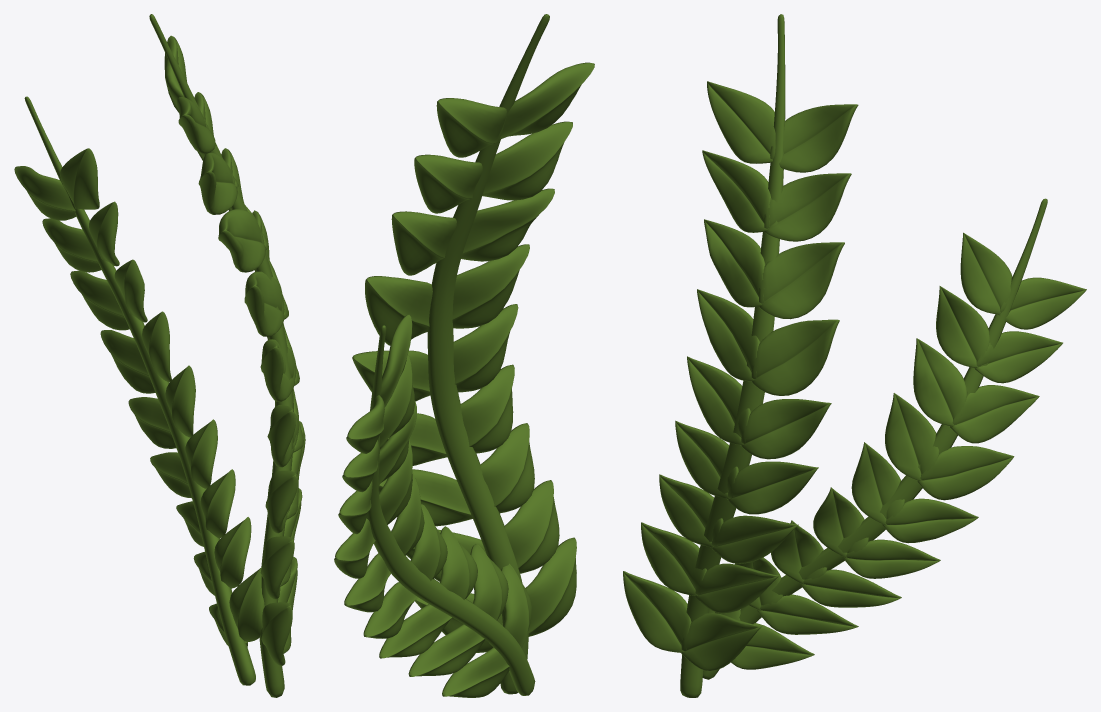
Rendered from vines.fbx.
3 views of the same model, side by side, from view 1: azimuth 30°, elevation 25°; view 2: azimuth 150°, elevation 25°; view 3: azimuth 270°, elevation 25° (orthographic). The views are drawn at different scales.
Parts seen in each view (by area): view 1: lilac.001; view 2: lilac.001; view 3: lilac.001.
Boxes of the visible parts, left/top/right/bottom form: lilac.001: left=14, top=14, right=305, bottom=697; lilac.001: left=334, top=14, right=594, bottom=697; lilac.001: left=623, top=14, right=1086, bottom=697.
Size of the model in its own units: 122 by 48.18 by 188.
